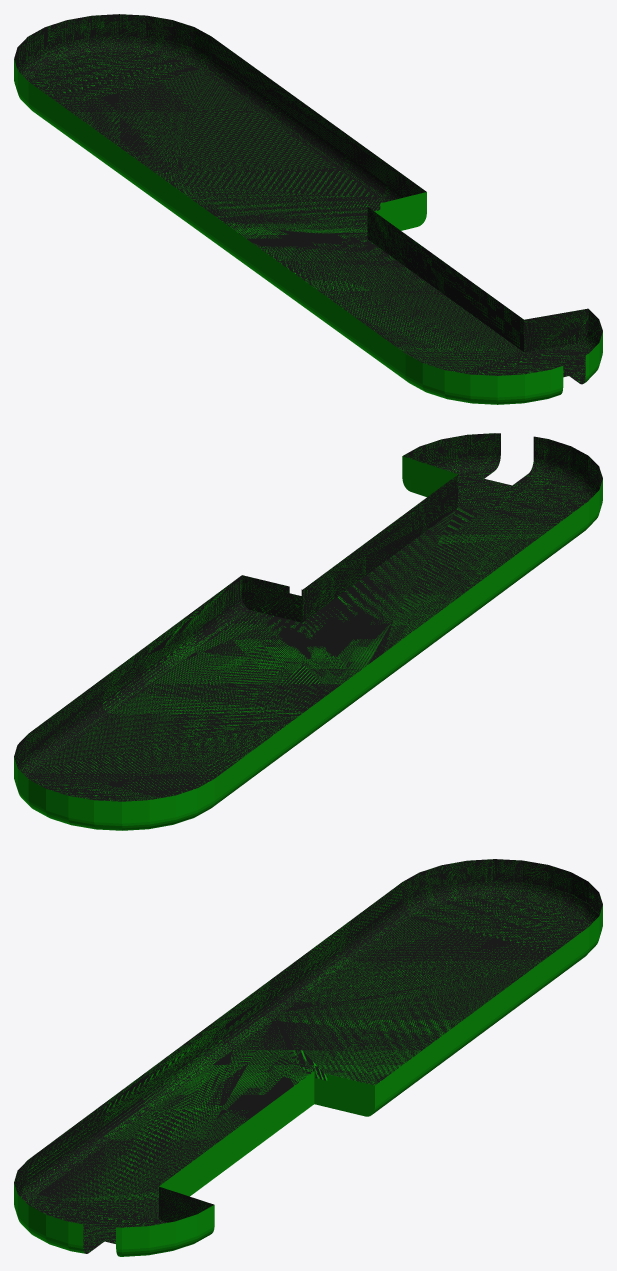
The model's file is original-119.obj.
3 views of the same model, one above another, from view 1: azimuth 30°, elevation 25°; view 2: azimuth 150°, elevation 25°; view 3: azimuth 330°, elevation 25° (orthographic).
Parts seen in each view (by area): view 1: #ID699; view 2: #ID699; view 3: #ID699.
Boxes of the visible parts, box(x1,y1,x2,y2) form: #ID699: box(14, 14, 602, 404); #ID699: box(14, 433, 602, 830); #ID699: box(14, 859, 602, 1256).
Size of the model in its own units: 0.238 by 0.0397 by 1.05.
